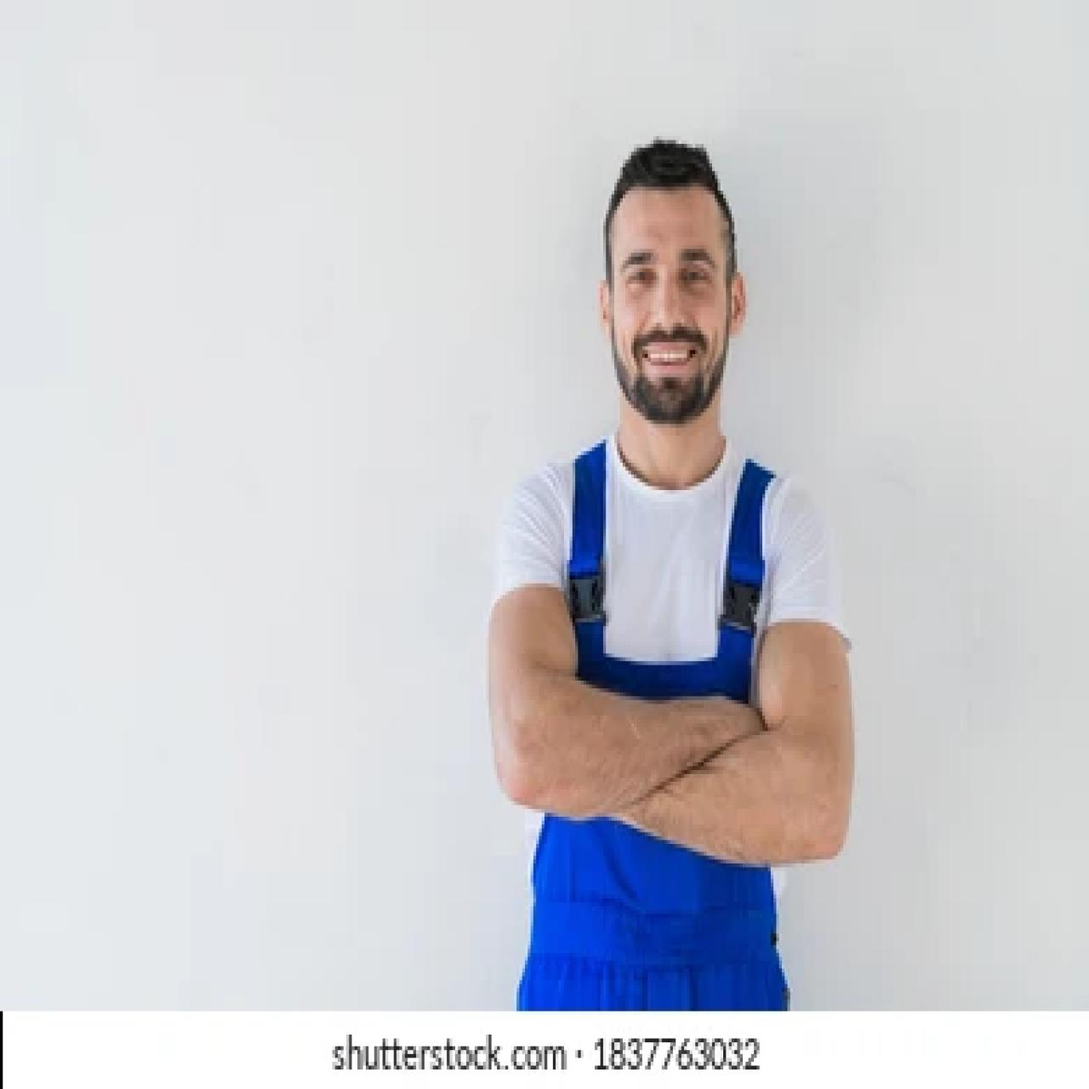NO_Safety_Vest: (501, 432, 850, 971)
Person: (472, 105, 878, 1006)
